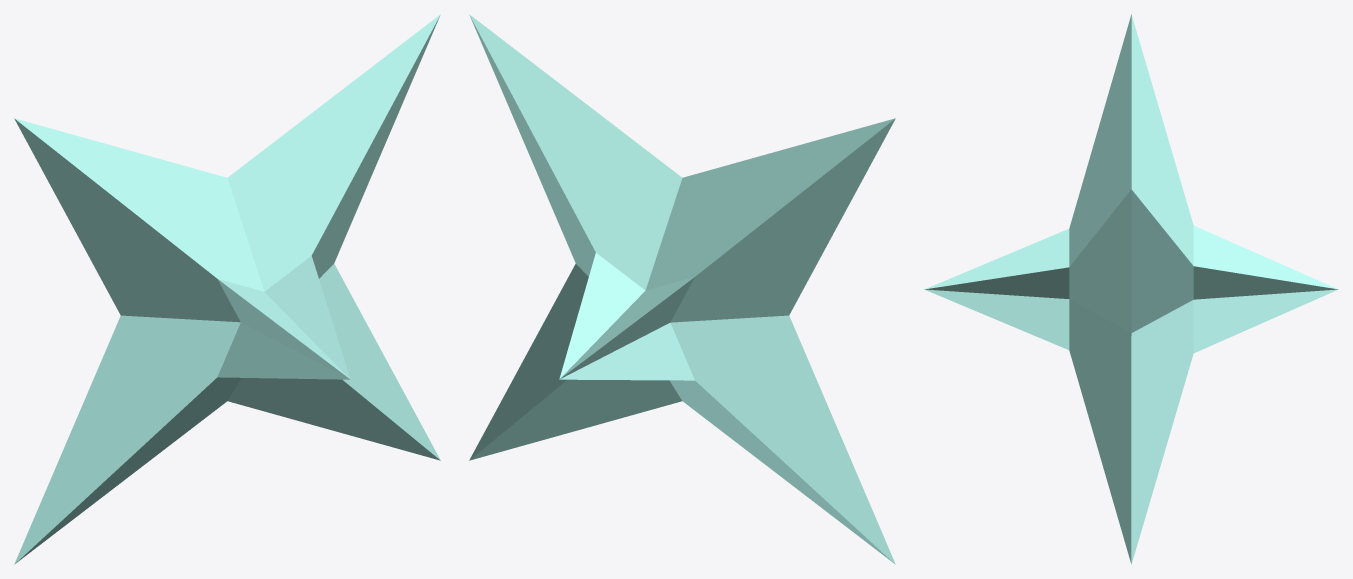
File: sparkle_projectile.fbx
3 renders of one model, left to right at view 1: azimuth 30°, elevation 25°; view 2: azimuth 150°, elevation 25°; view 3: azimuth 270°, elevation 25°, orthographic. The views are drawn at different scales.
Visible parts, largest first — view 1: Cube; view 2: Cube; view 3: Cube.
Boxes of the visible parts, left/top/right/bottom form: Cube: left=14, top=14, right=440, bottom=564; Cube: left=469, top=14, right=895, bottom=564; Cube: left=924, top=14, right=1338, bottom=564.
Bounding box in the file's own units: 200 × 200 × 200.
